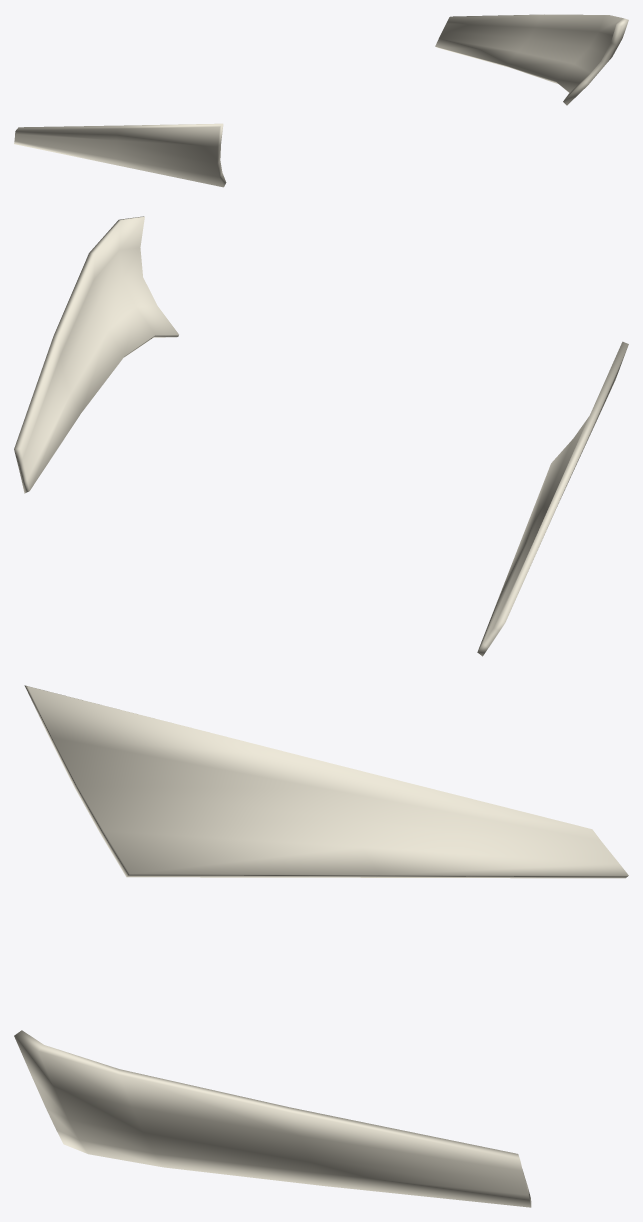
3 renders of one model, top to bottom at view 1: azimuth 30°, elevation 25°; view 2: azimuth 150°, elevation 25°; view 3: azimuth 270°, elevation 25°, orthographic. The views are drawn at different scales.
Visible parts, largest first — view 1: ZA_9dce1aa85ef952e6; view 2: ZA_9dce1aa85ef952e6; view 3: ZA_9dce1aa85ef952e6.
Boxes of the visible parts, bbox=[...] form: ZA_9dce1aa85ef952e6: bbox=[14, 14, 628, 187]; ZA_9dce1aa85ef952e6: bbox=[14, 216, 628, 656]; ZA_9dce1aa85ef952e6: bbox=[14, 685, 628, 1207].
Bounding box in the file's own units: 0.0471 × 0.0127 × 0.0291.
